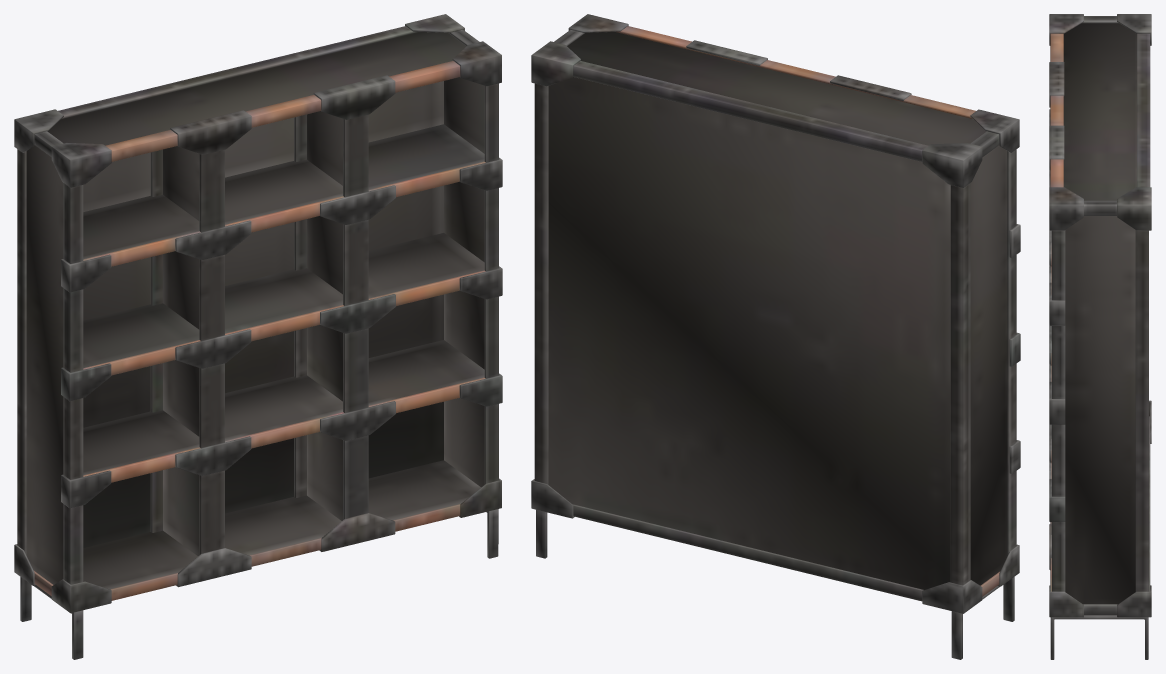
File: SM_Cupboard_Kitchen_2e71a8.glb
3 renders of one model, left to right at view 1: azimuth 30°, elevation 25°; view 2: azimuth 150°, elevation 25°; view 3: azimuth 270°, elevation 25°, orthographic. The views are drawn at different scales.
Size of the model in its own units: 1.81 by 2 by 0.4069.
Materials: 1 (1 with a texture image).
